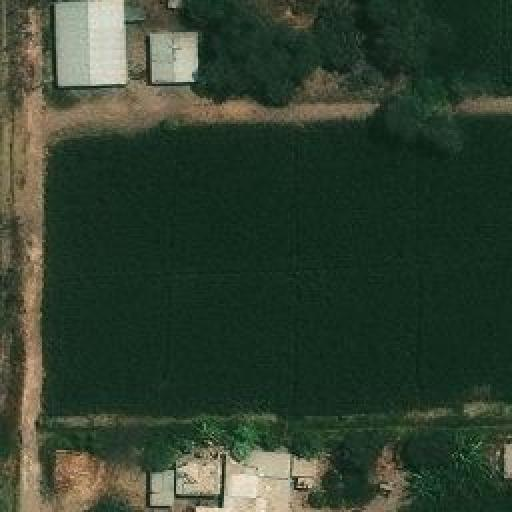manzanas: (48, 0, 201, 93), (145, 435, 323, 510)
